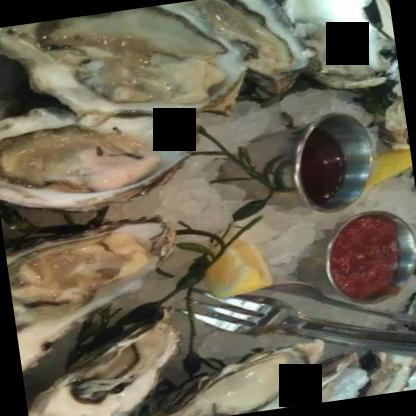oyster: (0, 0, 241, 136), (3, 212, 186, 369), (0, 99, 208, 220), (15, 300, 202, 415), (173, 0, 317, 111), (263, 0, 401, 103), (155, 340, 333, 415)
